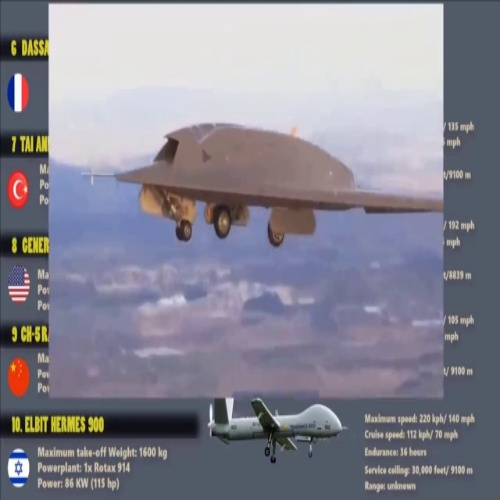uav878: (80, 119, 443, 257), (204, 398, 347, 467)
